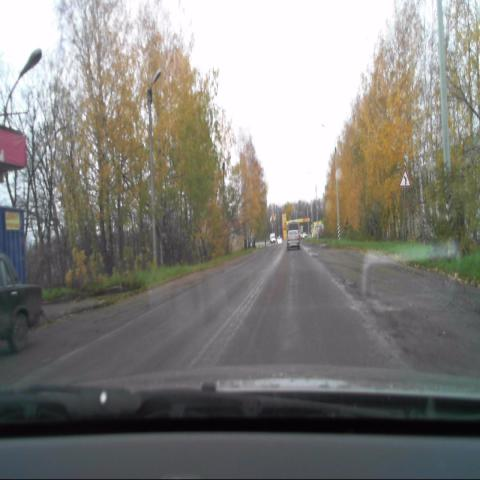1_11_1: (399, 169, 412, 189)
